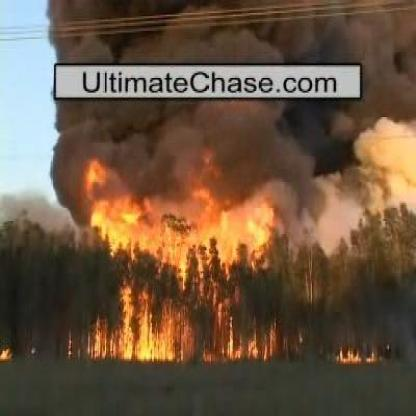-: (51, 103, 388, 193), (49, 0, 372, 62)
foggia-v2-map80-epoch100 - v1 4323: (119, 324, 165, 362)
